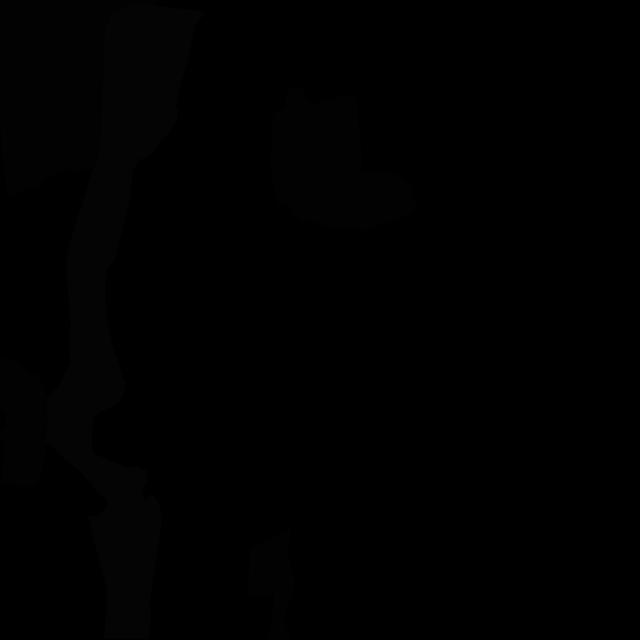cardboard: (32, 0, 159, 172), (270, 86, 416, 231), (0, 358, 47, 487), (248, 527, 296, 640)
soft_plastic: (46, 3, 206, 639)
